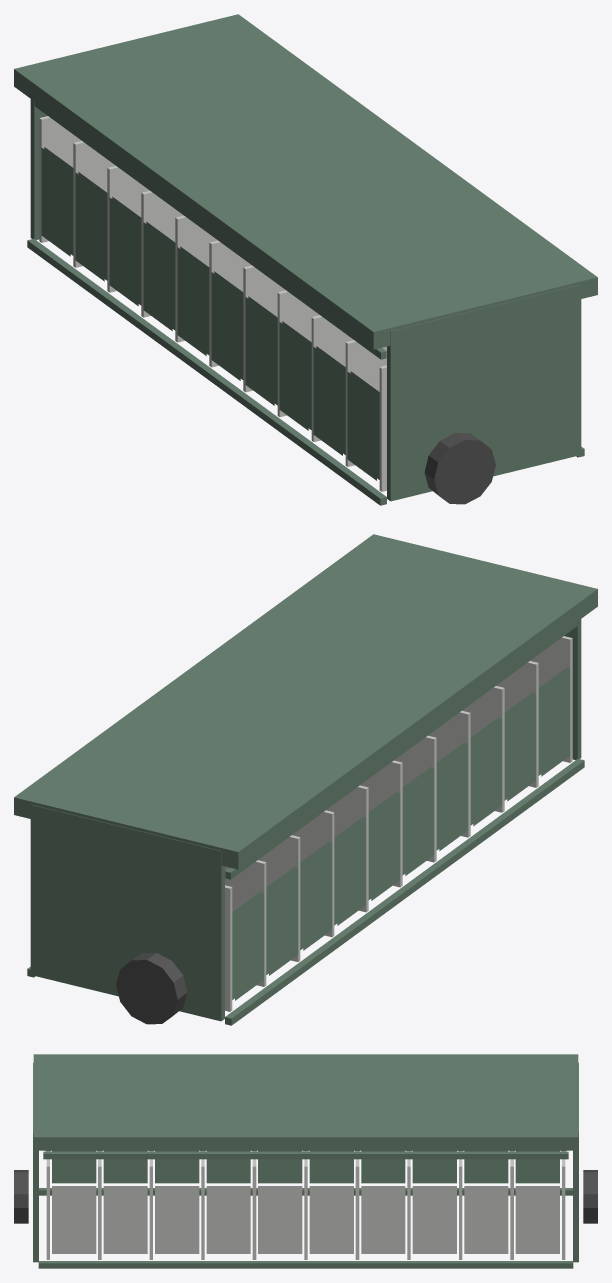
Rendered from SM_BM_BHip_StartingStalls.glb.
3 views of the same model, one above another, from view 1: azimuth 30°, elevation 25°; view 2: azimuth 150°, elevation 25°; view 3: azimuth 270°, elevation 25° (orthographic). The views are drawn at different scales.
Visible parts, largest first — view 1: SM_BM_BHip_StartingStalls; view 2: SM_BM_BHip_StartingStalls; view 3: SM_BM_BHip_StartingStalls.
Boxes of the visible parts, x1=… form: SM_BM_BHip_StartingStalls: x1=14, y1=14, x2=597, y2=505; SM_BM_BHip_StartingStalls: x1=14, y1=534, x2=597, y2=1025; SM_BM_BHip_StartingStalls: x1=14, y1=1054, x2=597, y2=1268.
Size of the model in its own units: 4 by 3.1 by 11.9.
